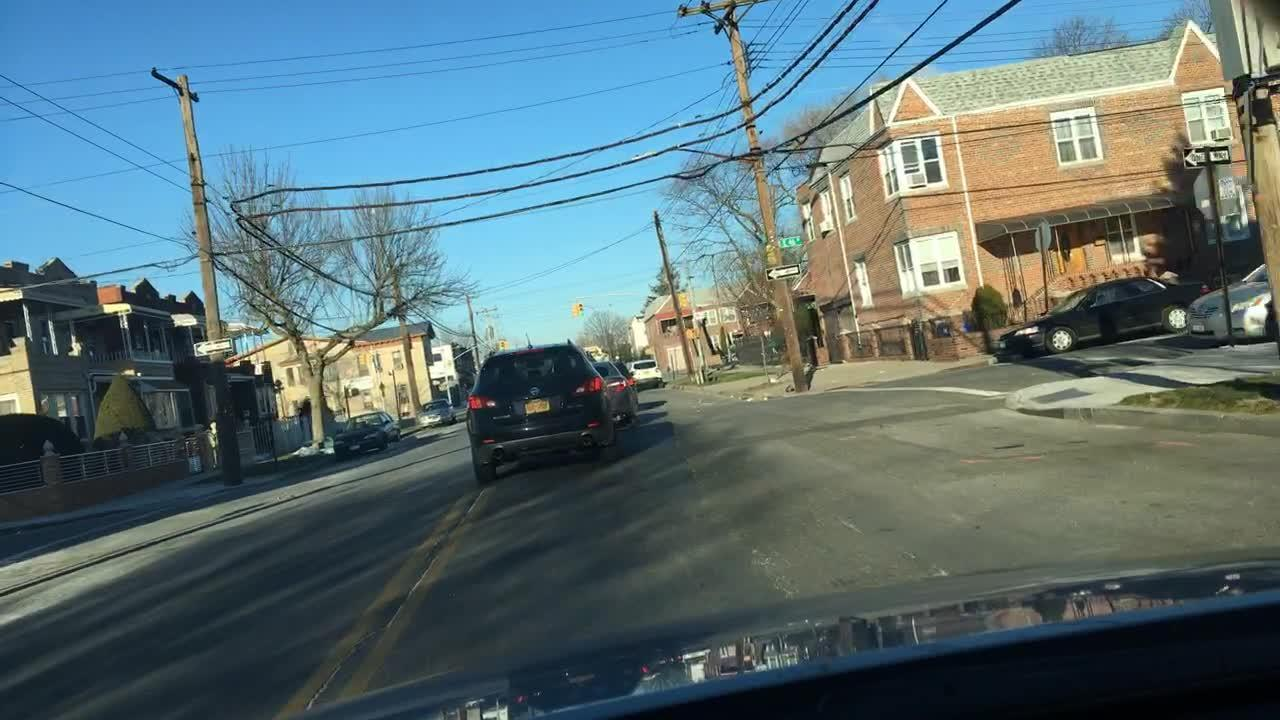Nissan: (525, 385, 545, 400)
